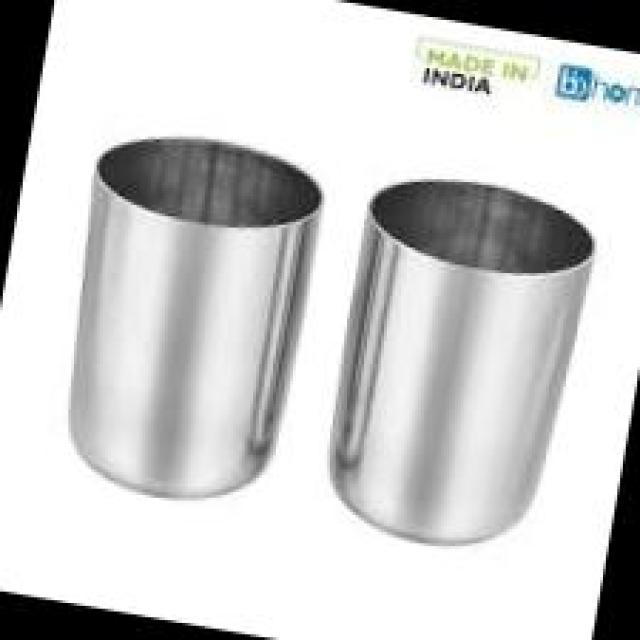bottle: (33, 113, 334, 520), (309, 155, 607, 565)
